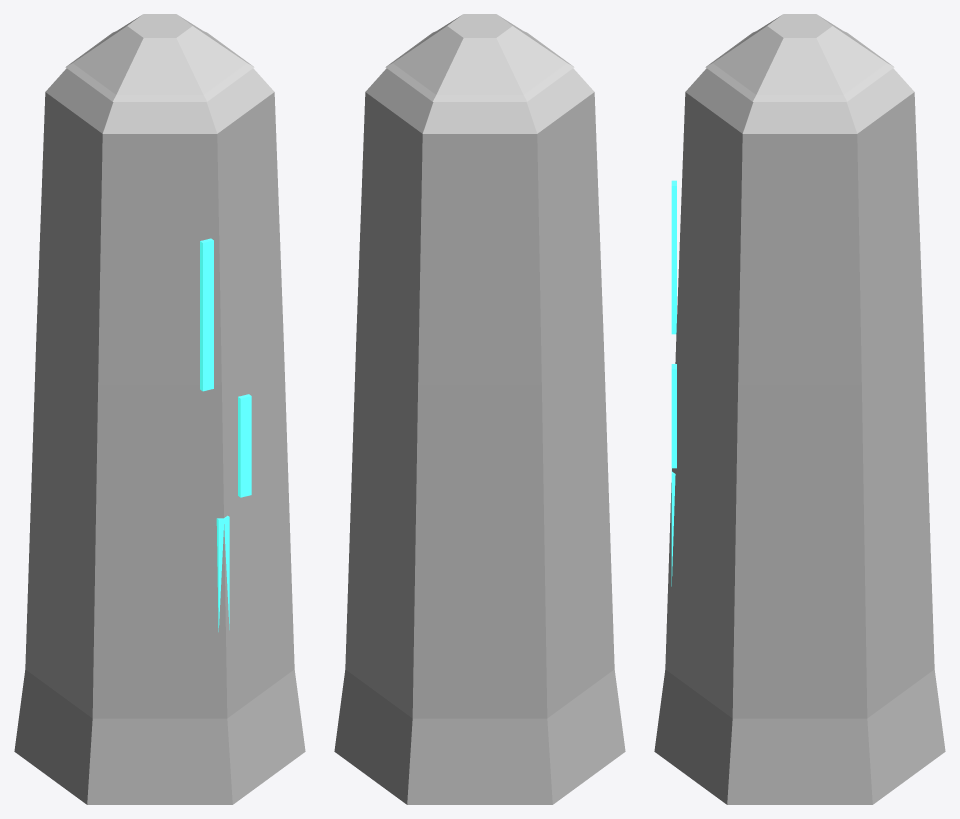
The model's file is rune_monolith.glb.
3 renders of one model, left to right at view 1: azimuth 30°, elevation 25°; view 2: azimuth 150°, elevation 25°; view 3: azimuth 270°, elevation 25°, orthographic.
Parts seen in each view (by area): view 1: rune_monolith; view 2: rune_monolith; view 3: rune_monolith.
Part boxes in pixels (x1,y1,x2,y2): rune_monolith: [14, 14, 305, 804]; rune_monolith: [334, 14, 625, 804]; rune_monolith: [654, 14, 945, 804].
Bounding box in the file's own units: 1.39 × 4.4 × 1.6.
